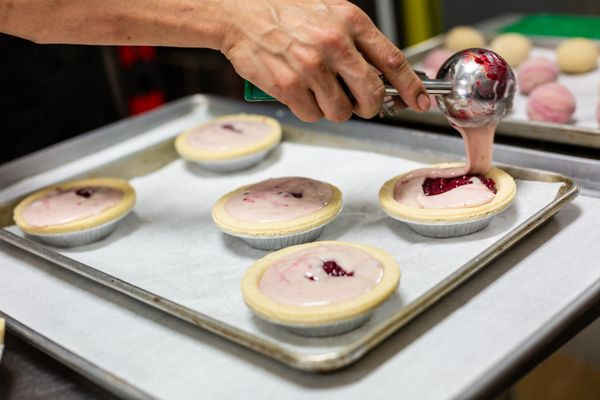sushi: (378, 161, 517, 237), (13, 176, 137, 247)
